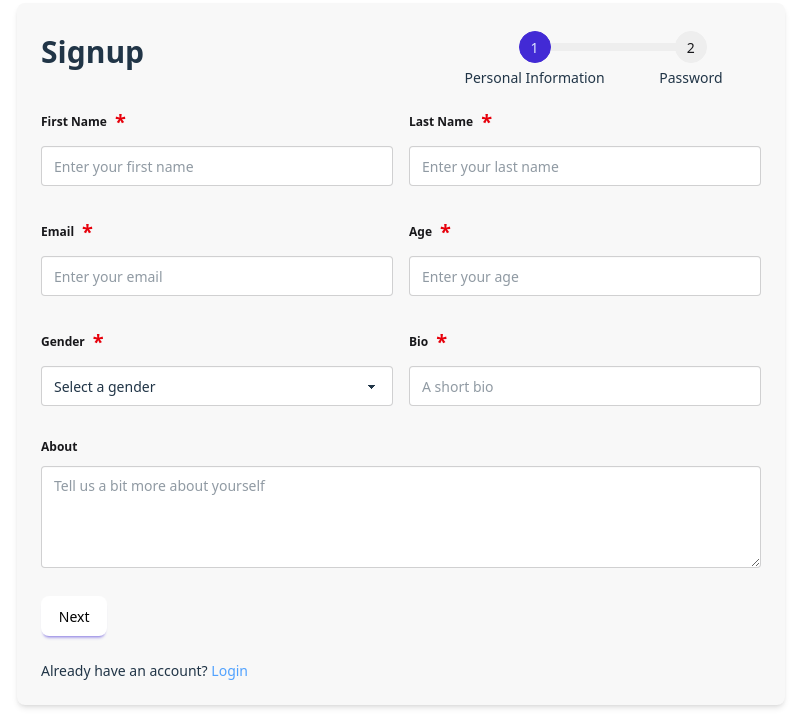
Scenario: Signup – complete integration › navigates to step 2 when step 1 is fully valid
Type "Alice" into the field labelled "First Name *" at point(217, 166), box [41,146,393,186]
Type "Dev" into the field labelled "Last Name *" at point(585, 166), box [409,146,761,186]
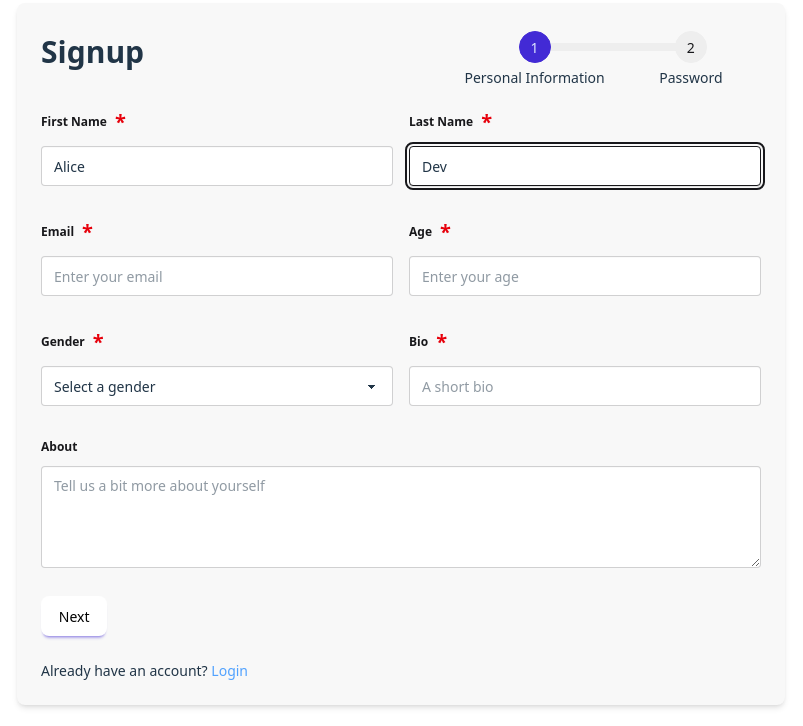
Type "alice@example.com" into the field labelled "Email *" at point(217, 276), box [41,256,393,296]
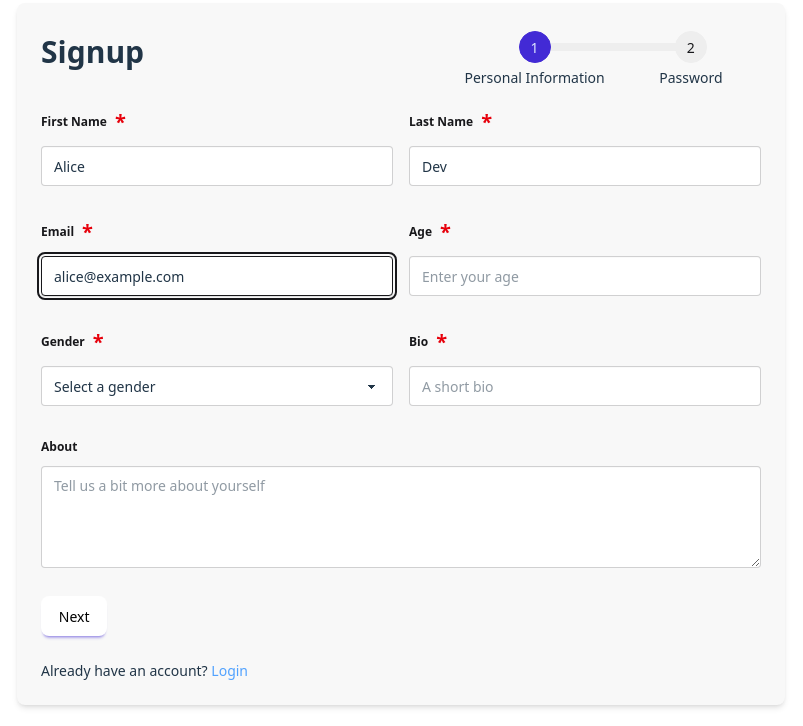
Type "25" into the number field labelled "Age *" at point(585, 276), box [409,256,761,296]
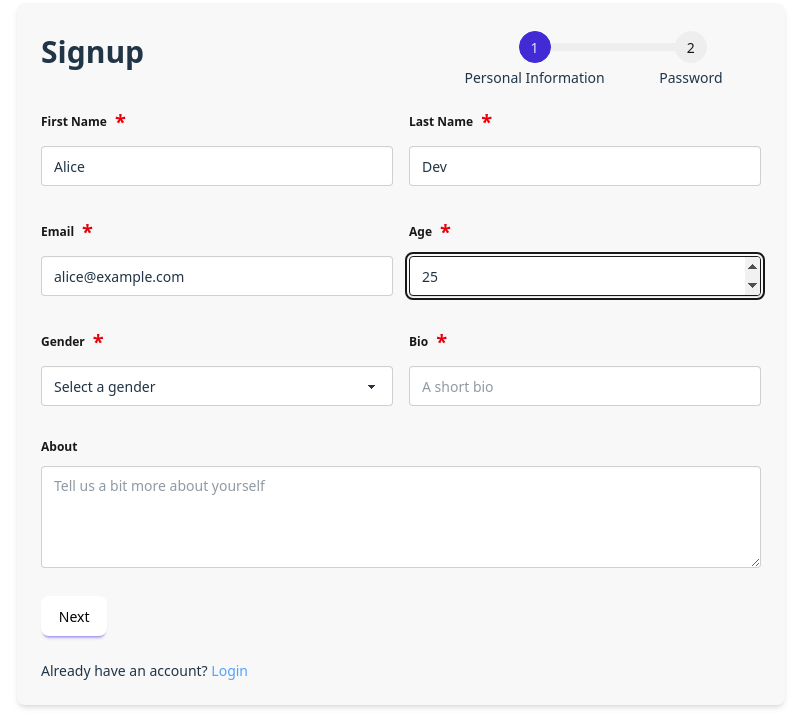
Select "Female" in the dropdown at point(217, 386), box [41,366,393,406]
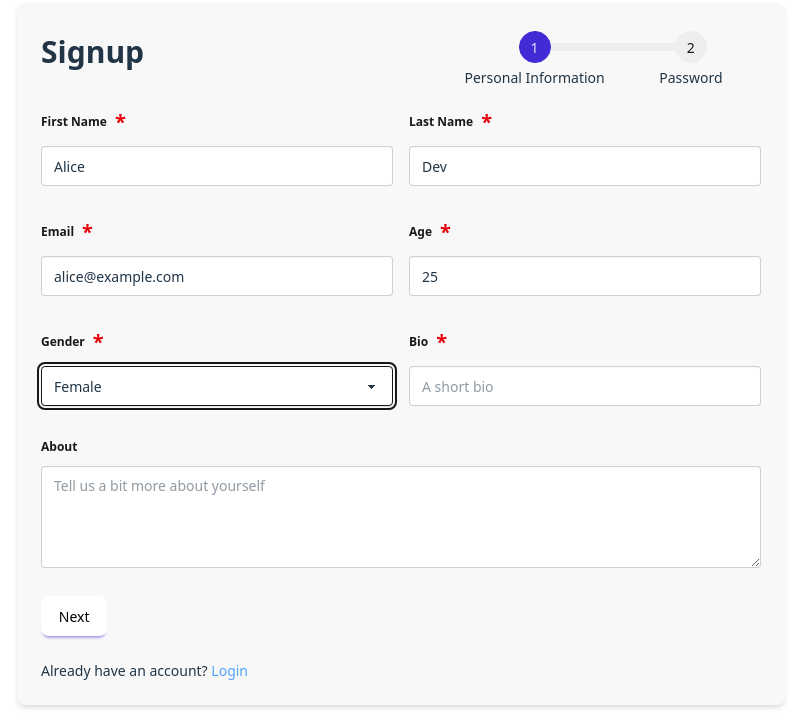
Type "Developer" into the field labelled "Bio *" at point(585, 386), box [409,366,761,406]
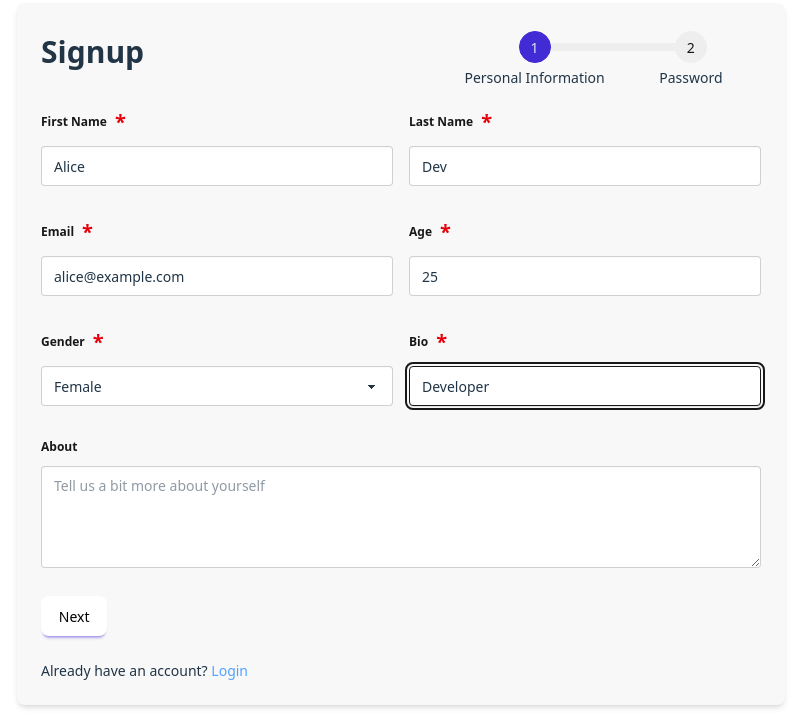
Click the button "Next" at point(74, 616), box [41,596,107,636]
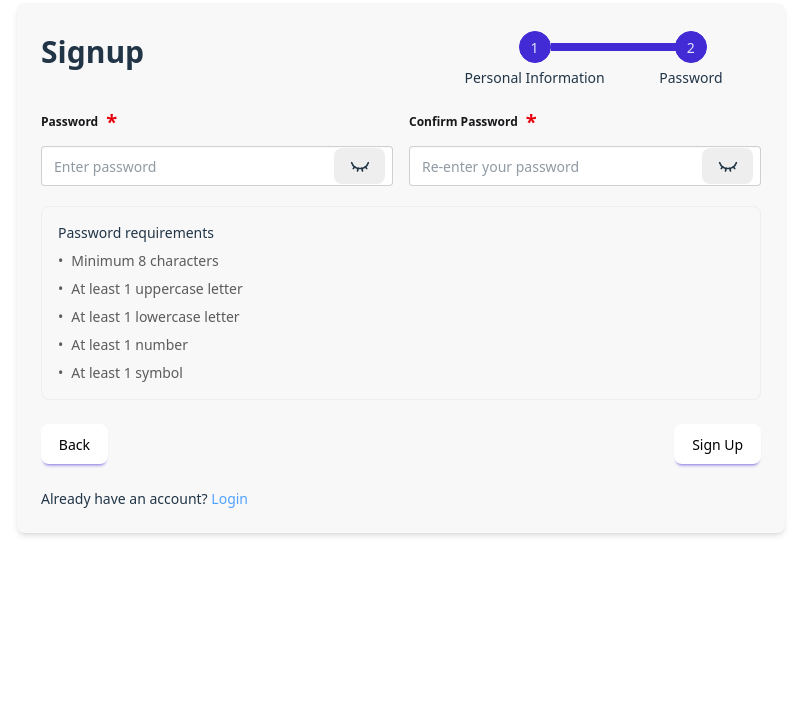
Expected: the button "Sign Up" is shown, [674,424,761,464]
Expected: the password field with placeholder "Enter password" is shown, [41,146,393,186]
Expected: the password field with placeholder "Re-enter your password" is shown, [409,146,761,186]
